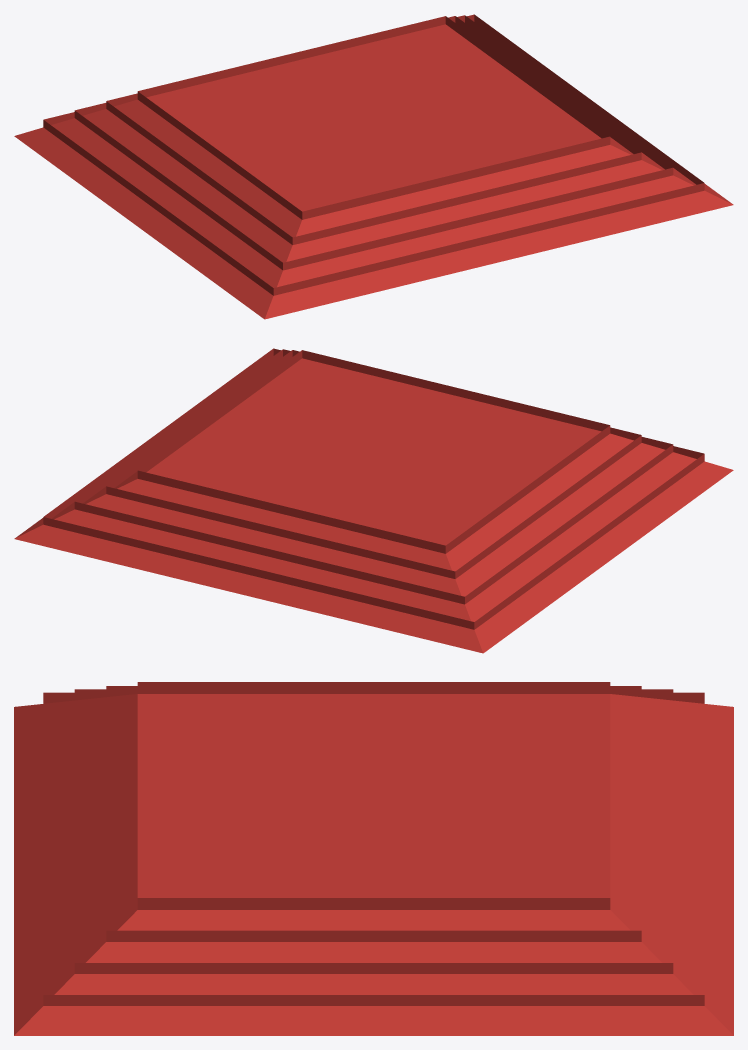
The model's file is Roof.fbx.
3 views of the same model, one above another, from view 1: azimuth 30°, elevation 25°; view 2: azimuth 150°, elevation 25°; view 3: azimuth 270°, elevation 25° (orthographic). The views are drawn at different scales.
Parts seen in each view (by area): view 1: Cube; view 2: Cube; view 3: Cube.
Boxes of the visible parts, x1=… form: Cube: x1=14, y1=14, x2=733, y2=319; Cube: x1=14, y1=348, x2=733, y2=653; Cube: x1=14, y1=682, x2=733, y2=1035.
Size of the model in its own units: 1996 by 282 by 1846.
